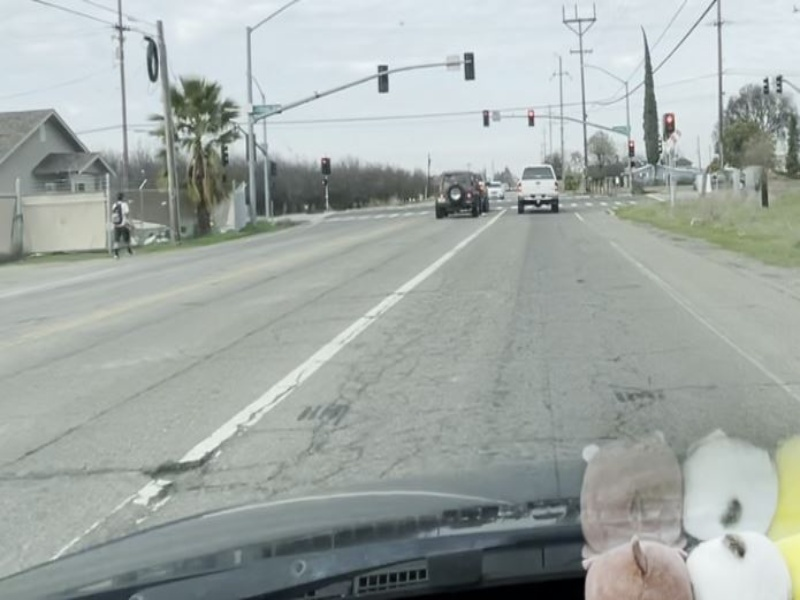pothole: (143, 456, 213, 479)
